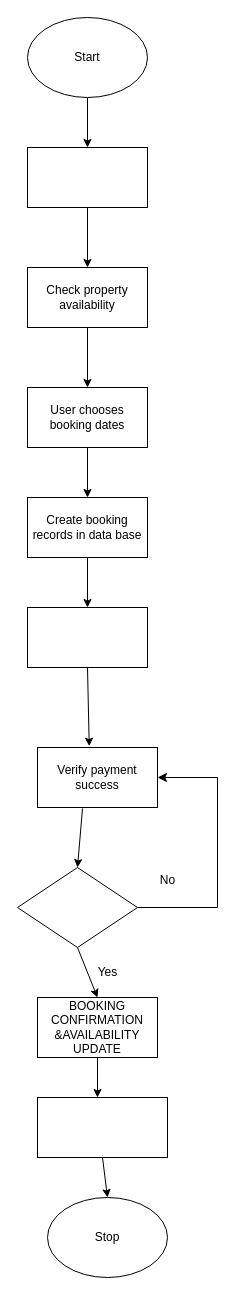
Image size: 244x1295. Some labels were removed from this diagram. The shapes that lost their labels are listed below. From the top down, each one's centre as x and y in pixels, then its label:
At point 87,177: "Validate user session".
At point 87,637: "Initiate payment process".
At point 77,907: "payment successful?".
At point 102,1127: "SEND CONFIRMATION NOTIFICATION/EMAIL".
